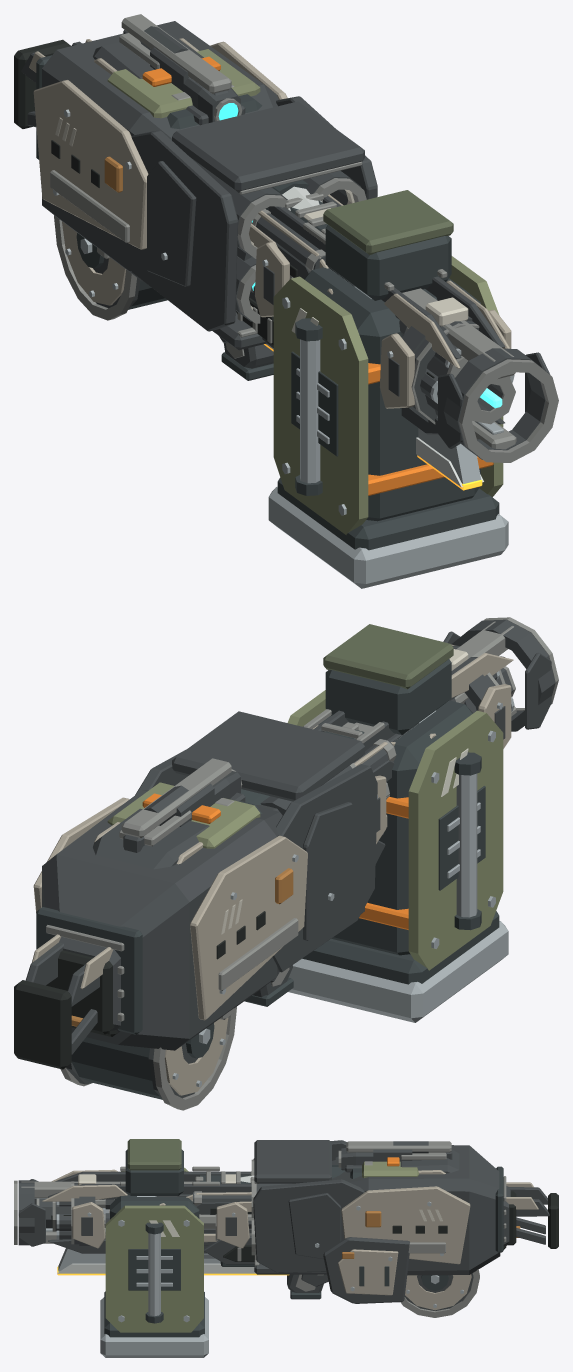
File: weapons.glb
3 renders of one model, top to bottom at view 1: azimuth 30°, elevation 25°; view 2: azimuth 150°, elevation 25°; view 3: azimuth 270°, elevation 25°, orthographic. The views are drawn at different scales.
Visible parts, largest first — view 1: vesper__weapon_armor_charcoal, breaker__weapon_frame_graphite, breaker__weapon_armor_olive, breaker__weapon_steel_brushed, vesper__weapon_armor_warm_ceramic, longbow__weapon_armor_charcoal, vesper__weapon_steel_warm_machined, longbow__weapon_steel_warm_machined, longbow__weapon_armor_warm_ceramic, breaker__weapon_armor_dark_olive, piledriver__weapon_armor_olive, kestrel__weapon_armor_charcoal (+14 smaller); view 2: vesper__weapon_armor_charcoal, breaker__weapon_frame_graphite, breaker__weapon_armor_olive, vesper__weapon_armor_warm_ceramic, breaker__weapon_steel_brushed, longbow__weapon_armor_charcoal, breaker__weapon_armor_dark_olive, vesper__weapon_steel_warm_machined, kestrel__weapon_grip_rubber, vesper__weapon_frame_graphite, hailstorm__weapon_frame_graphite, kestrel__weapon_armor_charcoal (+11 smaller); view 3: vesper__weapon_armor_charcoal, breaker__weapon_armor_olive, vesper__weapon_armor_warm_ceramic, breaker__weapon_frame_graphite, longbow__weapon_armor_charcoal, breaker__weapon_steel_brushed, rampart__weapon_armor_charcoal, longbow__weapon_armor_warm_ceramic, kestrel__weapon_armor_charcoal, rampart__weapon_armor_warm_ceramic, vesper__weapon_steel_warm_machined, breaker__weapon_armor_dark_olive (+22 smaller).
Part boxes in pixels (left/top/right/bottom): vesper__weapon_armor_charcoal: left=42, top=21, right=377, bottom=350; breaker__weapon_frame_graphite: left=277, top=225, right=499, bottom=550; breaker__weapon_armor_olive: left=273, top=256, right=503, bottom=534; breaker__weapon_steel_brushed: left=268, top=297, right=508, bottom=588; vesper__weapon_armor_warm_ceramic: left=33, top=41, right=287, bottom=249; longbow__weapon_armor_charcoal: left=93, top=30, right=550, bottom=459; vesper__weapon_steel_warm_machined: left=50, top=14, right=366, bottom=337; longbow__weapon_steel_warm_machined: left=119, top=33, right=558, bottom=462; longbow__weapon_armor_warm_ceramic: left=94, top=38, right=511, bottom=408; breaker__weapon_armor_dark_olive: left=323, top=190, right=453, bottom=254; piledriver__weapon_armor_olive: left=107, top=49, right=260, bottom=118; kestrel__weapon_armor_charcoal: left=21, top=41, right=502, bottom=411; vesper__weapon_armor_charcoal: left=42, top=711, right=377, bottom=1050; breaker__weapon_frame_graphite: left=302, top=659, right=499, bottom=984; breaker__weapon_armor_olive: left=287, top=690, right=503, bottom=970; vesper__weapon_armor_warm_ceramic: left=33, top=797, right=307, bottom=1020; breaker__weapon_steel_brushed: left=288, top=730, right=508, bottom=1022; longbow__weapon_armor_charcoal: left=93, top=619, right=555, bottom=869; breaker__weapon_armor_dark_olive: left=323, top=624, right=453, bottom=689; vesper__weapon_steel_warm_machined: left=46, top=758, right=355, bottom=1021; kestrel__weapon_grip_rubber: left=14, top=980, right=71, bottom=1069; vesper__weapon_frame_graphite: left=36, top=907, right=142, bottom=1034; hailstorm__weapon_frame_graphite: left=71, top=1023, right=214, bottom=1099; kestrel__weapon_armor_charcoal: left=25, top=668, right=513, bottom=1054; vesper__weapon_armor_charcoal: left=253, top=1140, right=500, bottom=1275; breaker__weapon_armor_olive: left=105, top=1167, right=203, bottom=1332; vesper__weapon_armor_warm_ceramic: left=341, top=1186, right=470, bottom=1264; breaker__weapon_frame_graphite: left=104, top=1149, right=220, bottom=1337; longbow__weapon_armor_charcoal: left=18, top=1149, right=459, bottom=1253; breaker__weapon_steel_brushed: left=100, top=1220, right=215, bottom=1357; rampart__weapon_armor_charcoal: left=55, top=1141, right=510, bottom=1303; longbow__weapon_armor_warm_ceramic: left=42, top=1169, right=445, bottom=1248; kestrel__weapon_armor_charcoal: left=39, top=1148, right=549, bottom=1292; rampart__weapon_armor_warm_ceramic: left=204, top=1234, right=398, bottom=1295; vesper__weapon_steel_warm_machined: left=251, top=1141, right=506, bottom=1266; breaker__weapon_armor_dark_olive: left=127, top=1139, right=181, bottom=1170.
Size of the model in its own units: 1.09 by 1.91 by 4.76.
